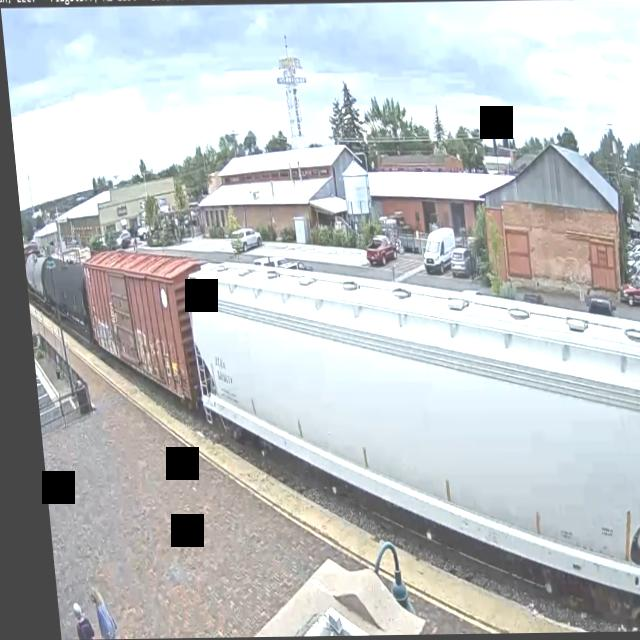boxcar: (72, 235, 210, 411)
hopper: (175, 246, 640, 638)
